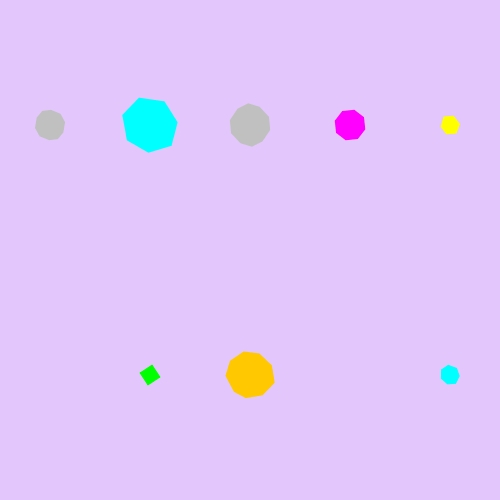decagon: (225, 102, 276, 149), (30, 107, 70, 144)
heptagon: (119, 95, 182, 156), (436, 361, 465, 389)
hexagon: (435, 112, 465, 138)
nonagon: (222, 348, 278, 402)
octagon: (330, 105, 370, 145)
quadrilateral: (135, 360, 165, 390)
